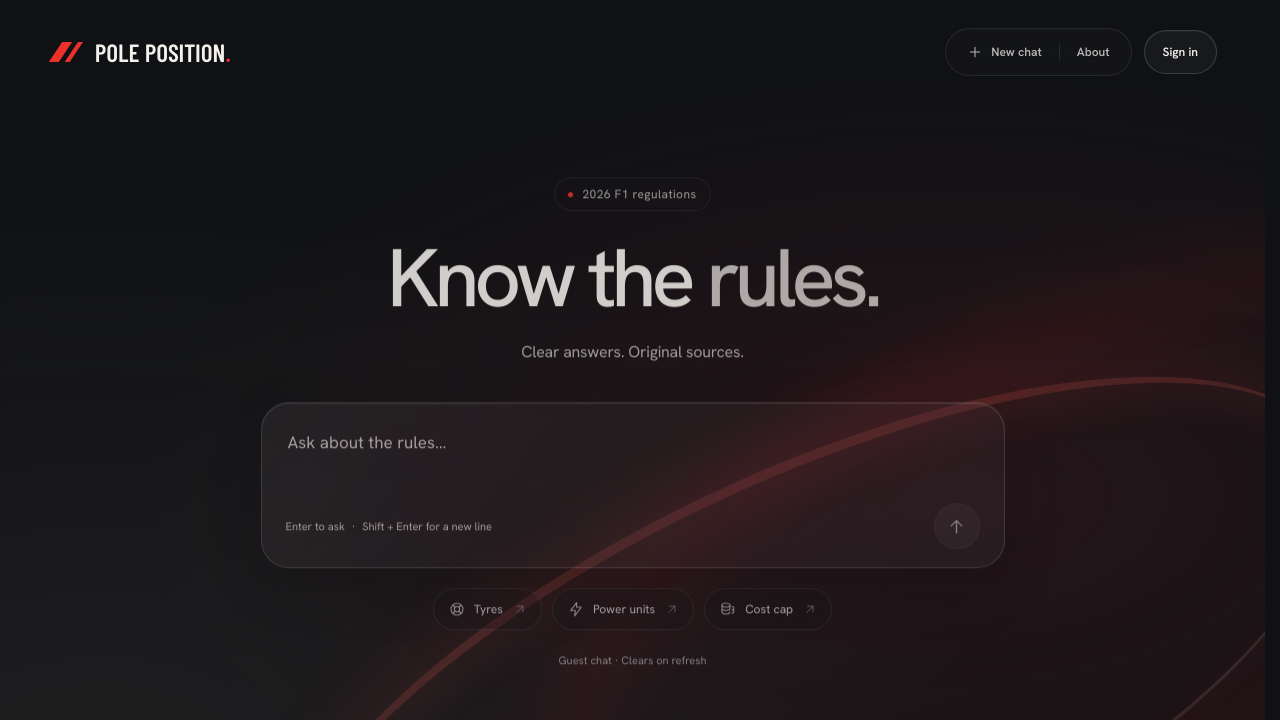
Test: guest chat integration › handles an upstream server error without exposing internal details
Type "Question" into the text box at (632, 457), box x1=286 y1=424 x2=980 y2=490
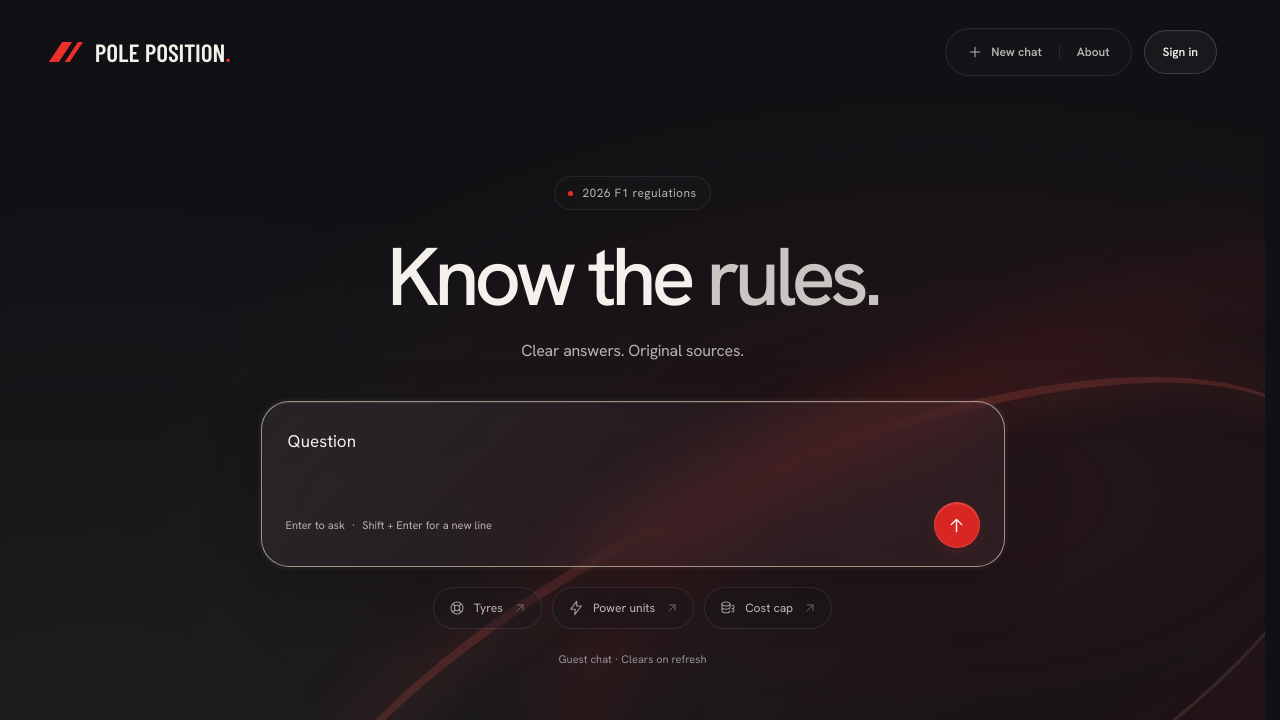
Click the button named "Send question" at (956, 525), box x1=934 y1=502 x2=980 y2=548
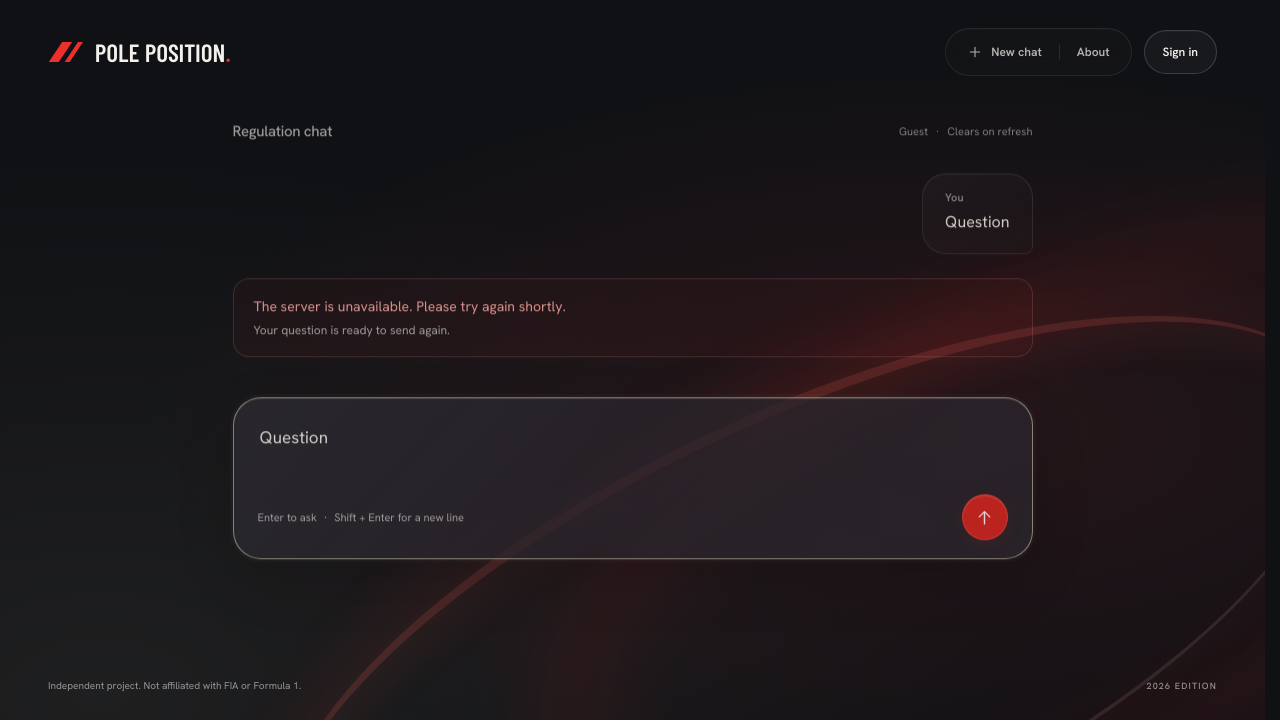
expect the text box holds "Question": met, box x1=258 y1=420 x2=1008 y2=482
expect the message shows "The server is unavailable": met, box x1=254 y1=296 x2=566 y2=314
